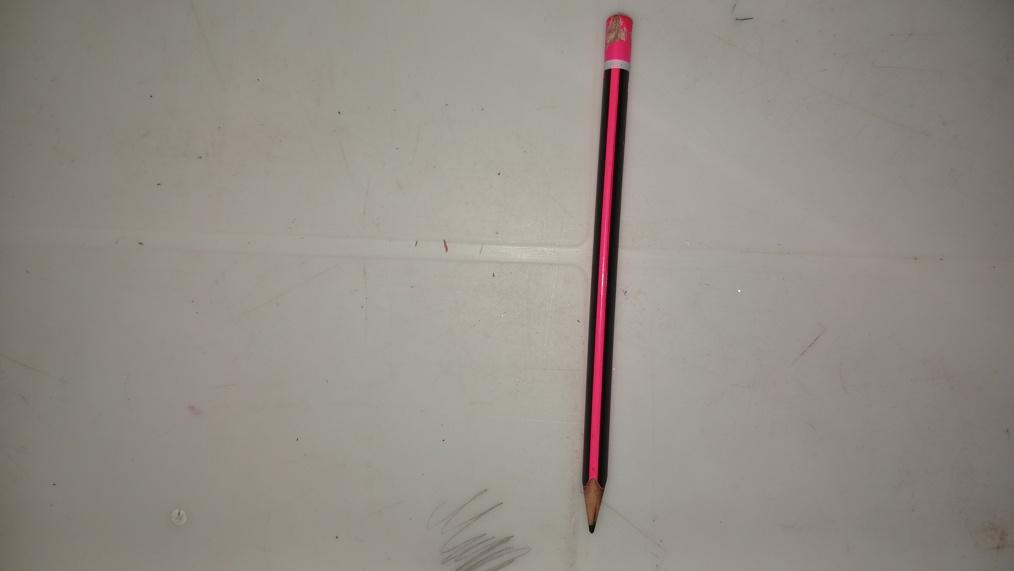Pencil: (581, 16, 637, 540)
